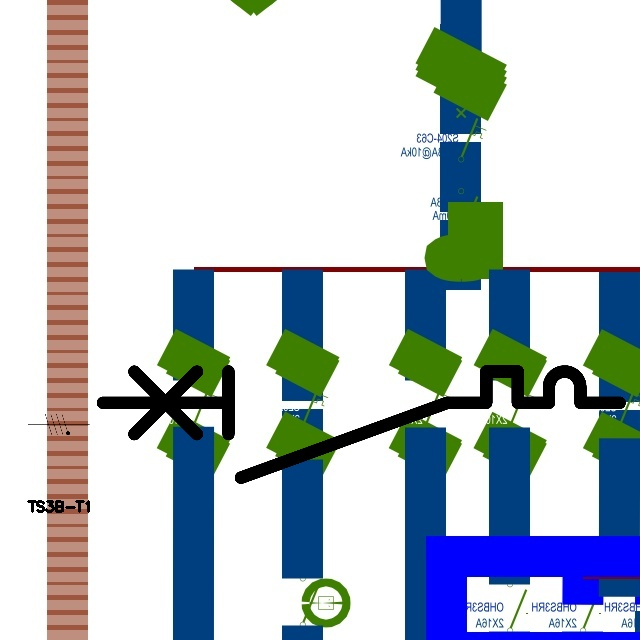interruptor_termomagnetico: (89, 358, 632, 491)
